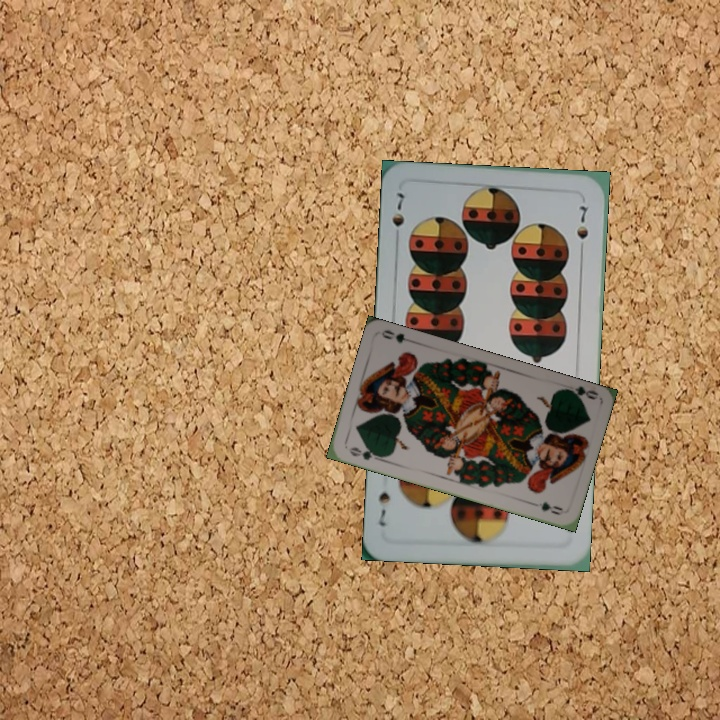GO: (558, 382, 600, 403), (345, 443, 384, 463)
S7: (388, 189, 407, 229)
